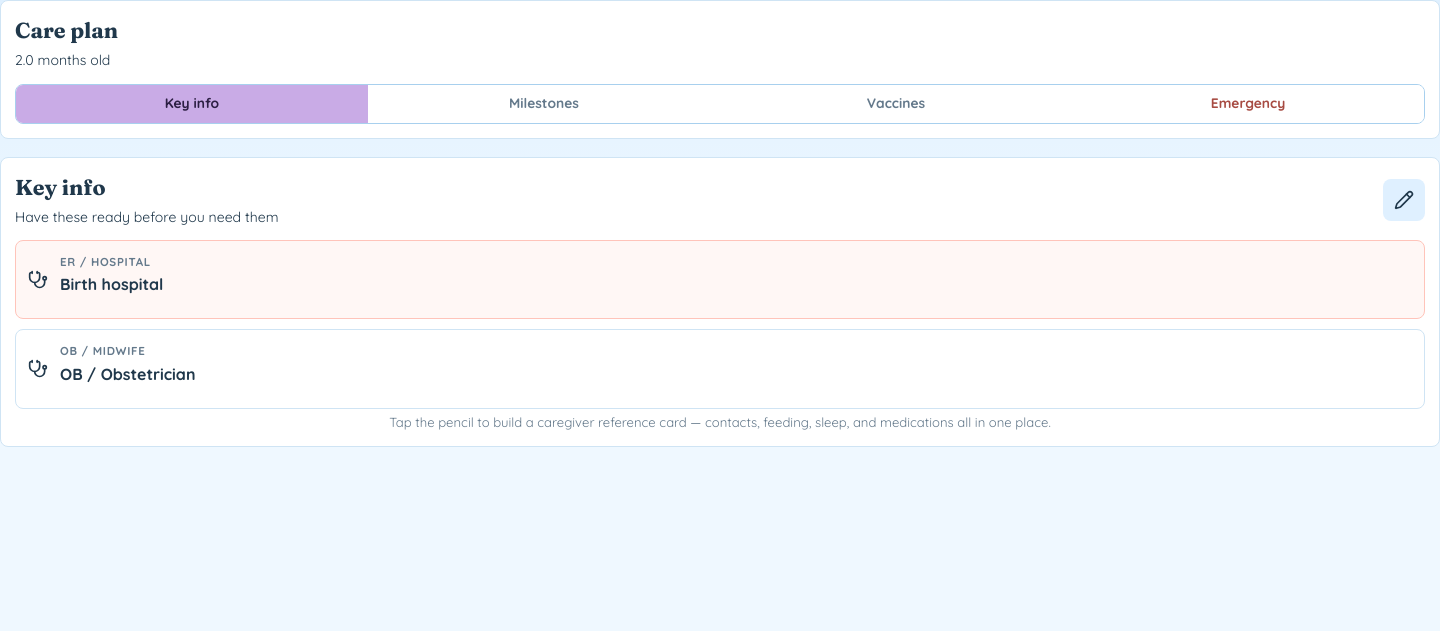
Test: Care tabs › shows one section at a time
Click the tab "Milestones" at (544, 104), box left=368, top=84, right=720, bottom=122
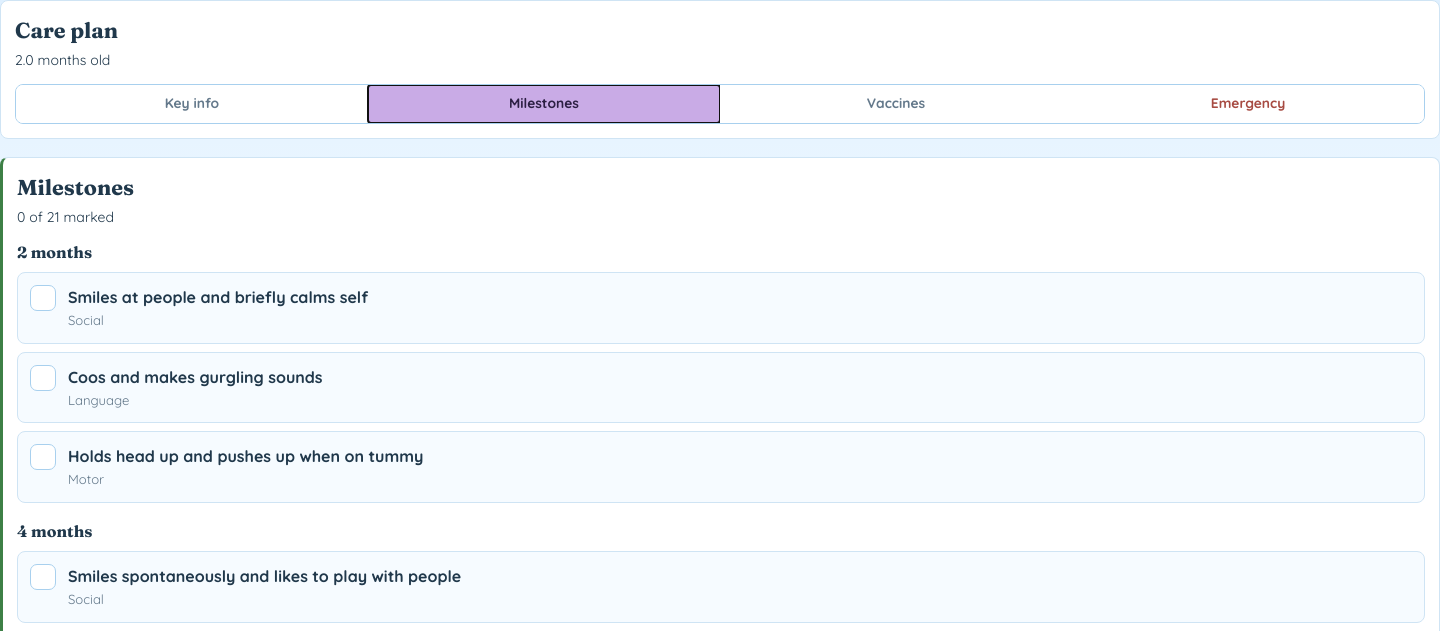
Expected: the heading "Vaccinations" is not shown
Now the heading "Milestones" is shown, box left=17, top=172, right=134, bottom=204
Click the tab "Vaccines" at (896, 104), box left=720, top=84, right=1072, bottom=122
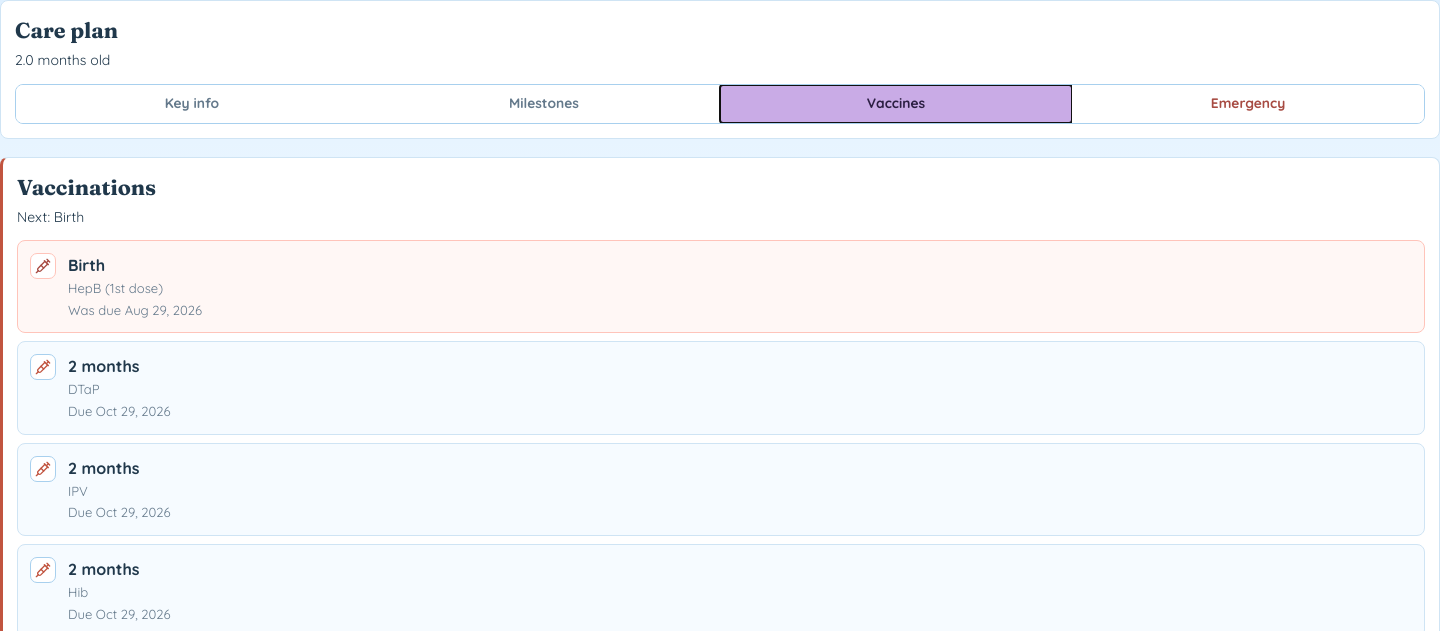
Now the heading "Vaccinations" is shown, box left=17, top=172, right=156, bottom=204
